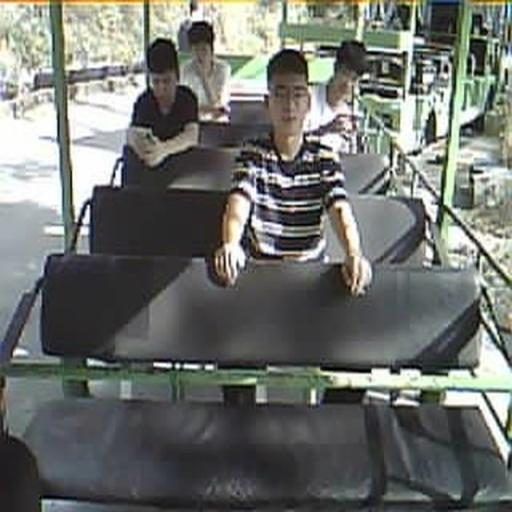persona: (207, 48, 374, 298), (124, 36, 200, 178), (305, 39, 371, 153), (180, 19, 232, 125)
